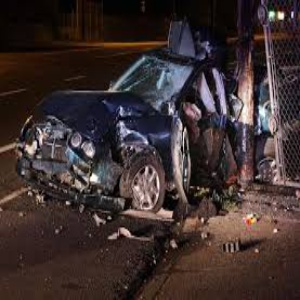bonnet: (43, 88, 119, 136)
bumper: (17, 141, 123, 212)
